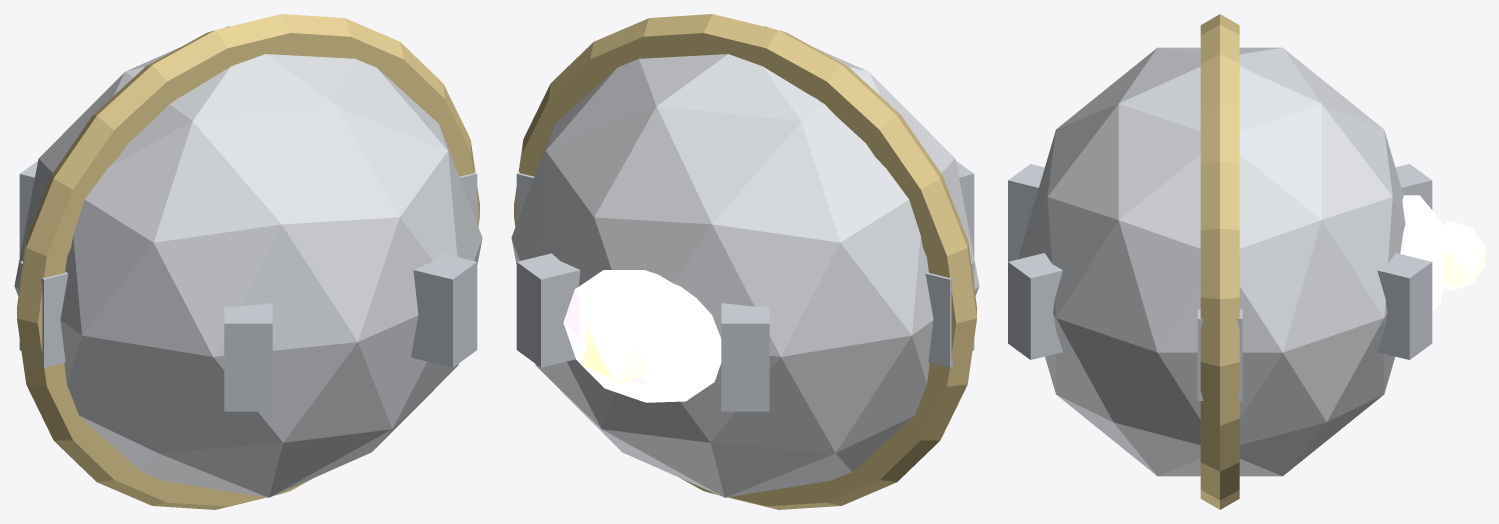
Rendered from boss_core.glb.
3 renders of one model, left to right at view 1: azimuth 30°, elevation 25°; view 2: azimuth 150°, elevation 25°; view 3: azimuth 270°, elevation 25°, orthographic. The views are drawn at different scales.
Parts seen in each view (by area): view 1: boss_core; view 2: boss_core; view 3: boss_core.
Part boxes in pixels (bbox=[...]): boss_core: bbox=[14, 14, 482, 509]; boss_core: bbox=[511, 14, 979, 509]; boss_core: bbox=[1008, 14, 1484, 509].
Bounding box in the file's own units: 1.54 × 1.52 × 1.48.
